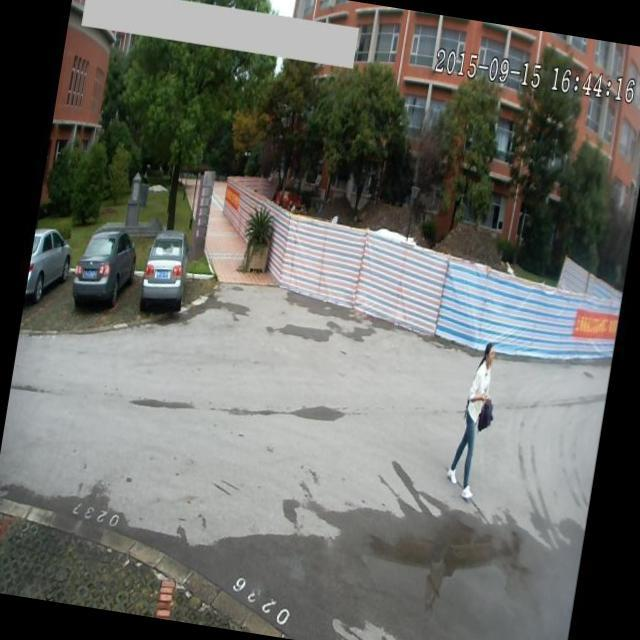person: (444, 340, 506, 504)
